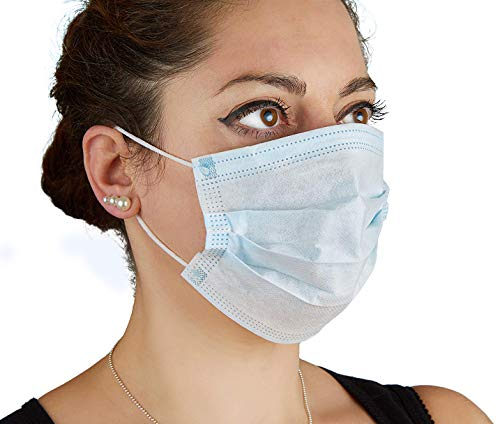mask: (197, 144, 401, 341)
